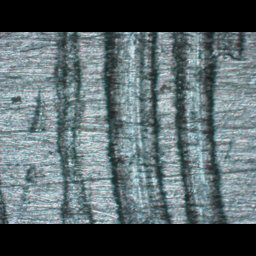d: (40, 32, 236, 223)
